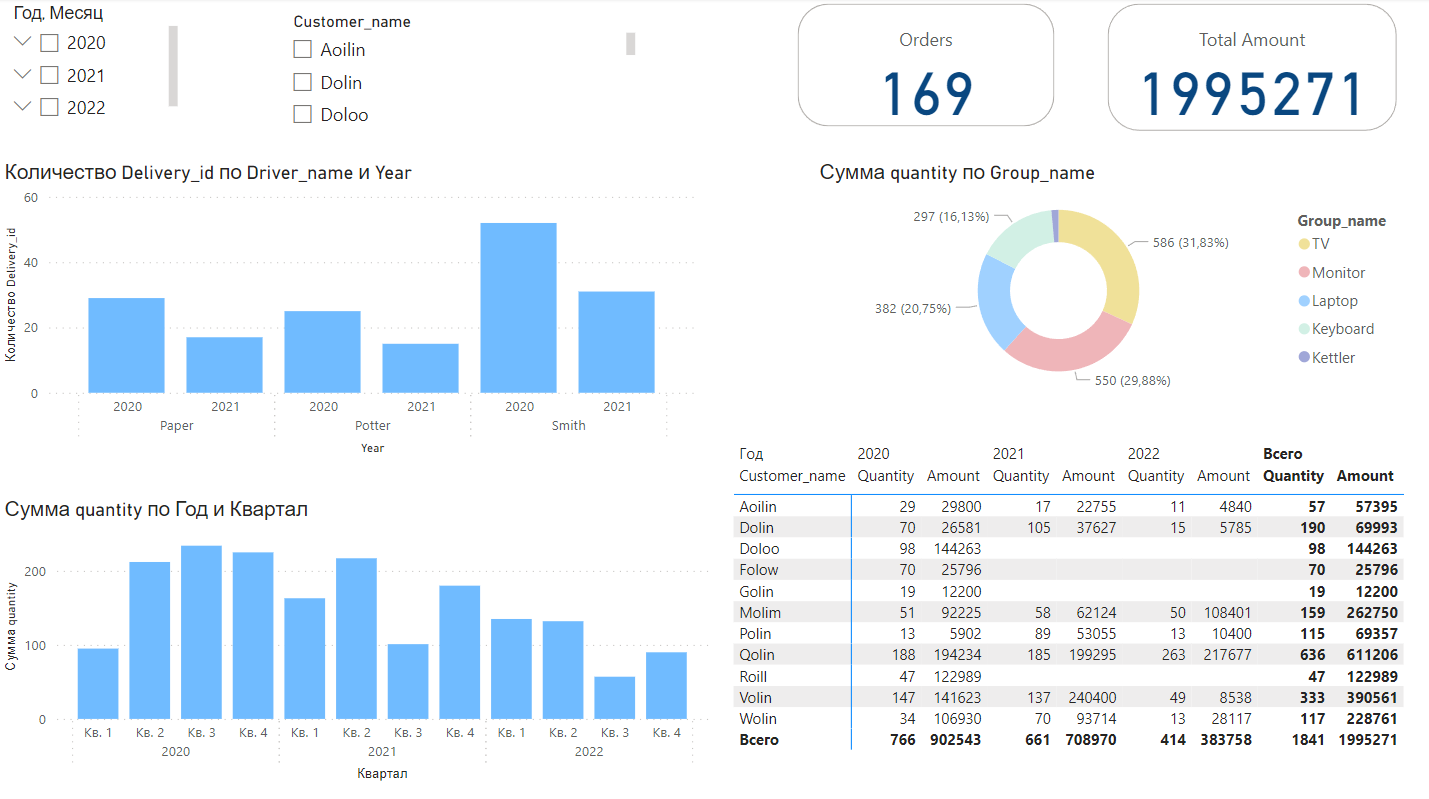

The dashboard page shown, as its layout file describes it:
{"tool":"powerbi","page":{"name":"Страница 1","canvas":[1280,720],"ordinal":0},"visuals":[{"type":"clusteredColumnChart","fields":{"Category":["Sheet1.Date.Изменение.Иерархия дат.Год","Sheet1.Date.Изменение.Иерархия дат.Квартал"],"Y":["example invoives.quantity"]},"box":[0,446.4,640,258.7],"z":0},{"type":"pivotTable","fields":{"Rows":["example customers.Customer_name"],"Values":["example invoives.quantity","example invoives.Amount"],"Columns":["Sheet1.Date.Изменение.Иерархия дат.Год"]},"box":[652.6,392.9,612.8,326.8],"z":1},{"type":"donutChart","fields":{"Category":["example group_id.Group_name"],"Y":["example invoives.quantity"]},"box":[729.5,144.9,535.9,215],"z":3},{"type":"slicer","fields":{"Values":["Sheet1.Date.Изменение.Иерархия дат.Год","Sheet1.Date.Изменение.Иерархия дат.Месяц"]},"box":[0,0,165.3,113.8],"z":6},{"type":"slicer","fields":{"Values":["example customers.Customer_name"]},"box":[250.7,8.1,324.2,109.3],"z":7},{"type":"clusteredColumnChart","fields":{"Category":["example deliveries.Driver_name","example deliveries.Year"],"Y":["example deliveries.Delivery_id"]},"box":[0,144.9,629.3,268.4],"z":8},{"type":"cardVisual","fields":{"Data":["example deliveries.Invoice_id"]},"box":[710.1,0,240,120],"z":9},{"type":"cardVisual","fields":{"Data":["example invoives.Amount"]},"box":[987.8,0,269.6,124.5],"z":10}]}

Visuals, with their boxes in screenshot pixels (x1, y1, x2, y2), scaled from the page's 1280x720 canvas onto the 1429x799 screenshot:
clusteredColumnChart - Sheet1.Date.Изменение.Иерархия дат.Год x Sheet1.Date.Изменение.Иерархия дат.Квартал: (0,495,714,782)
pivotTable - example customers.Customer_name x example invoives.quantity: (729,436,1413,798)
donutChart - example group_id.Group_name x example invoives.quantity: (814,161,1413,399)
slicer - Sheet1.Date.Изменение.Иерархия дат.Год x Sheet1.Date.Изменение.Иерархия дат.Месяц: (0,0,185,126)
slicer - example customers.Customer_name: (280,9,642,130)
clusteredColumnChart - example deliveries.Driver_name x example deliveries.Year: (0,161,703,459)
cardVisual - example deliveries.Invoice_id: (793,0,1061,133)
cardVisual - example invoives.Amount: (1103,0,1404,138)
